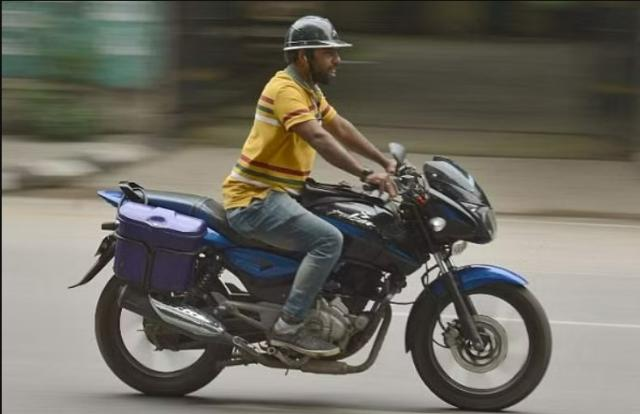motorcycle: (71, 9, 561, 413)
withHelmet: (280, 14, 355, 88)
